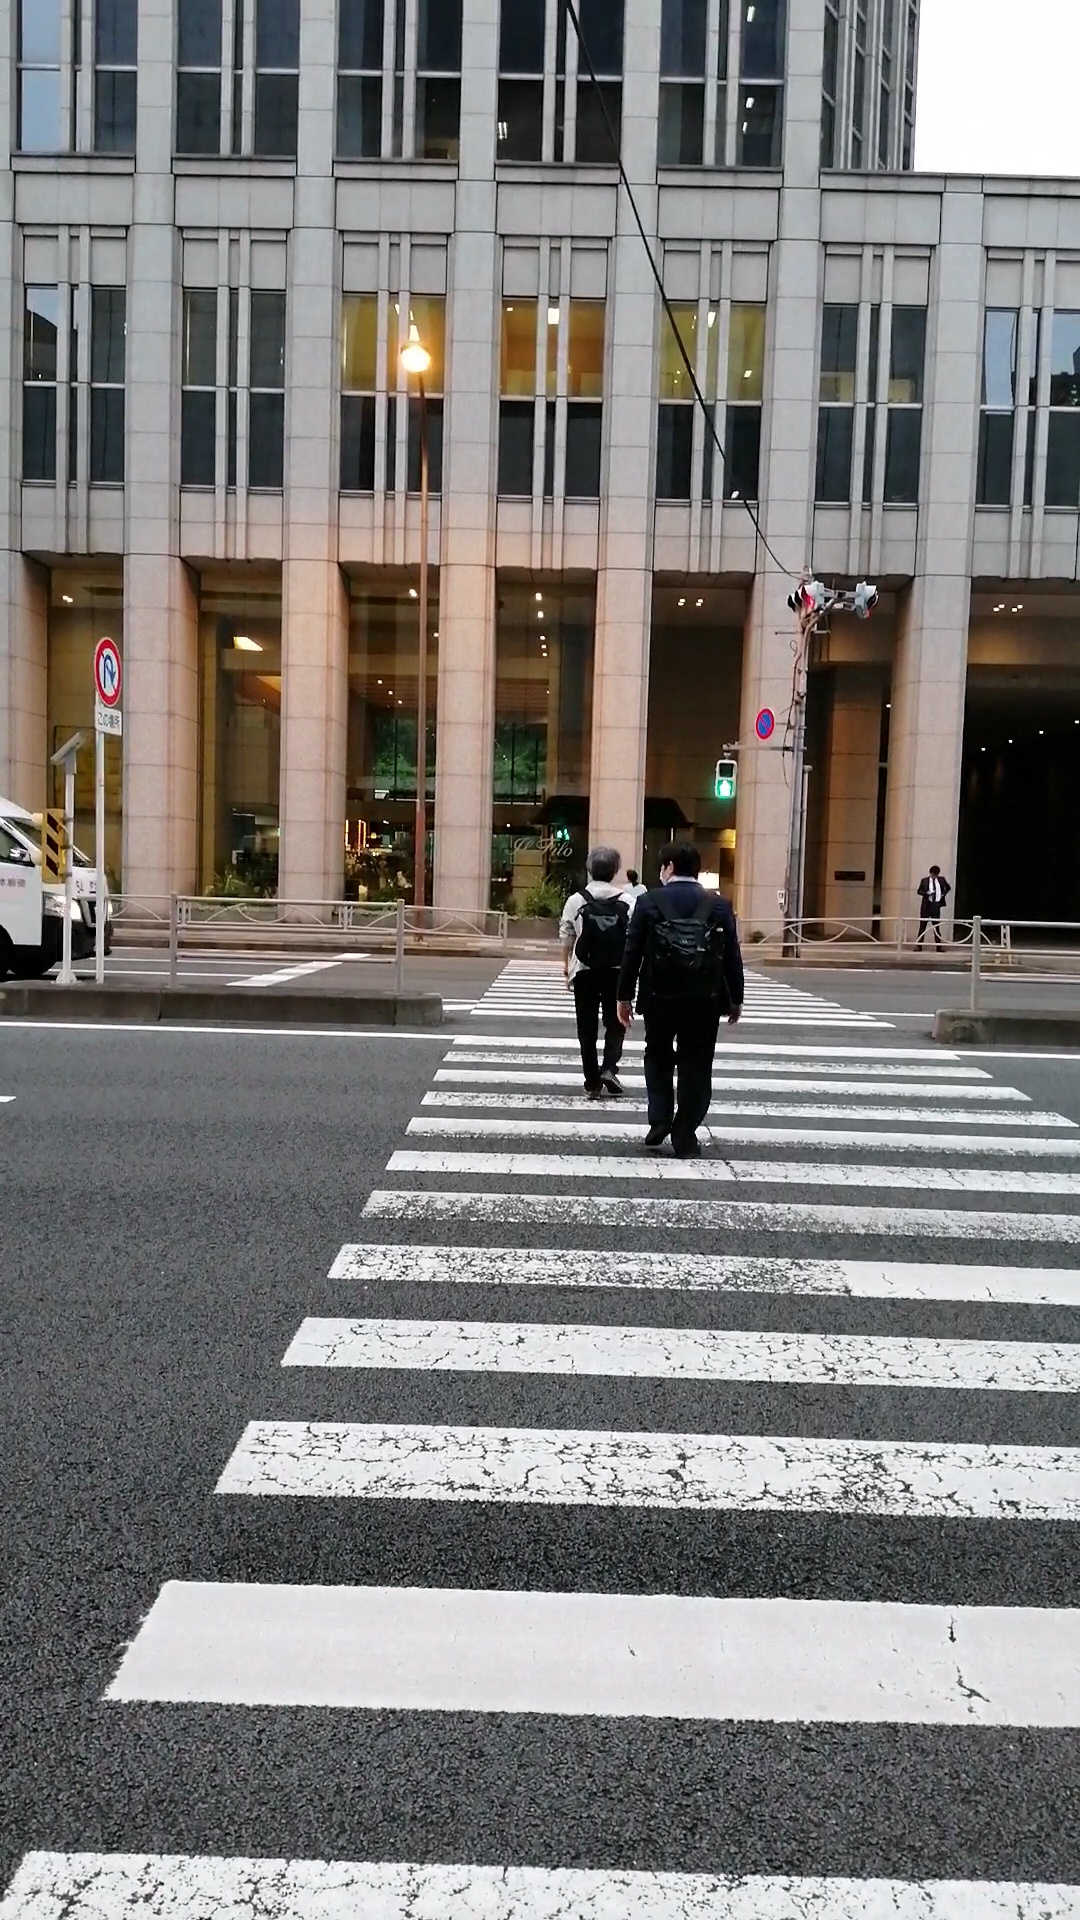green: (713, 760, 735, 798)
